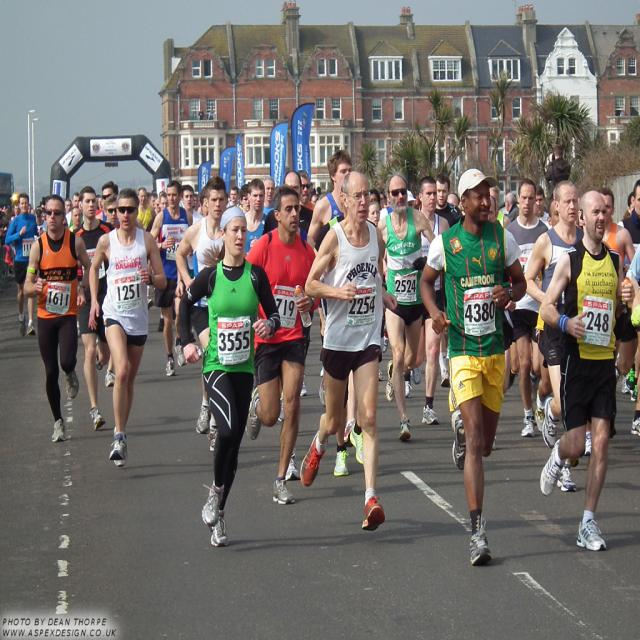Bib: (466, 301, 496, 326), (218, 330, 249, 354), (584, 314, 614, 336), (347, 294, 377, 316), (116, 281, 143, 301), (276, 298, 300, 318), (395, 277, 420, 296), (50, 292, 74, 310)
